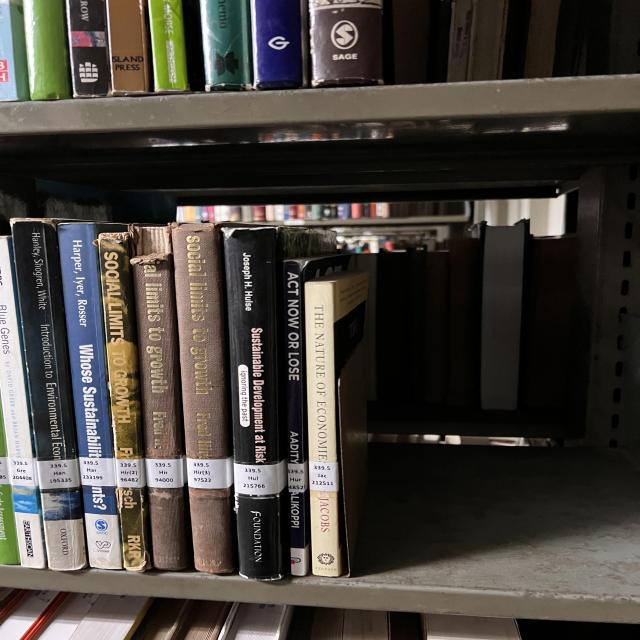Book: (222, 226, 335, 580), (12, 219, 87, 570), (58, 222, 127, 569), (283, 254, 352, 576), (172, 222, 233, 574), (130, 225, 190, 570), (305, 270, 368, 576), (97, 232, 150, 571), (0, 236, 45, 568)
Label: (233, 460, 287, 495), (187, 458, 233, 489), (37, 459, 80, 489), (145, 459, 185, 489), (78, 458, 115, 486), (115, 459, 147, 488), (308, 461, 338, 491), (8, 458, 37, 486), (287, 462, 308, 492)
